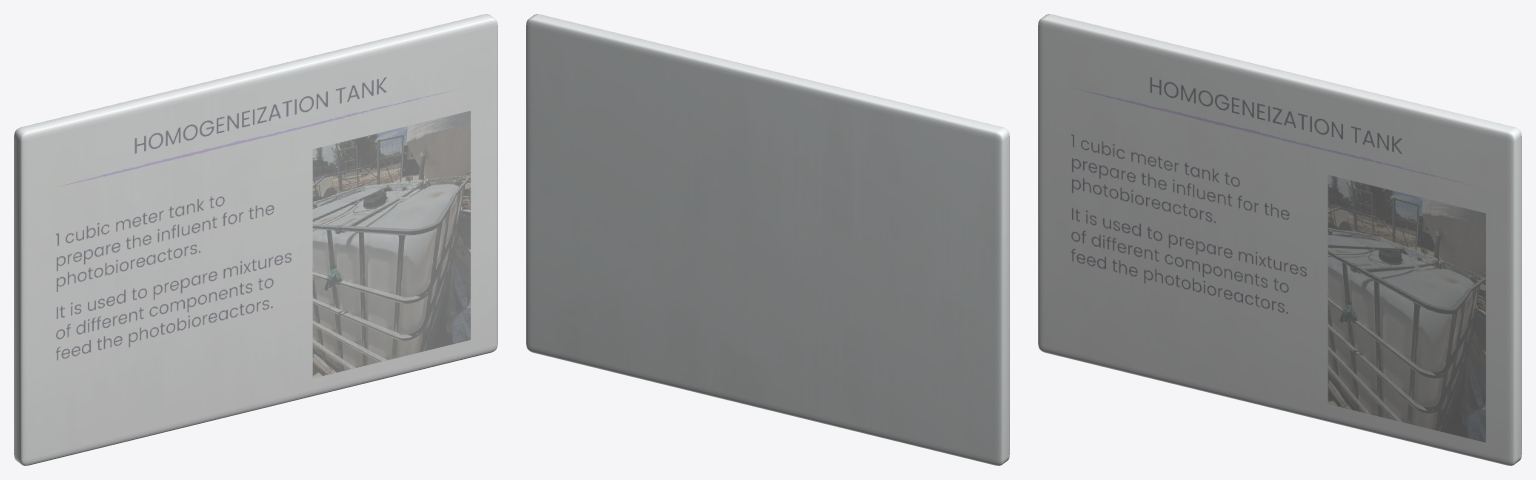
Rendered from Cartel_HT.glb.
3 renders of one model, left to right at view 1: azimuth 30°, elevation 25°; view 2: azimuth 150°, elevation 25°; view 3: azimuth 330°, elevation 25°, orthographic.
Parts seen in each view (by area): view 1: Box011; view 2: Box011; view 3: Box011.
Part boxes in pixels (bbox=[...]): Box011: bbox=[14, 14, 497, 465]; Box011: bbox=[526, 14, 1009, 465]; Box011: bbox=[1038, 14, 1521, 465].
Size of the model in its own units: 1.1 by 0.7335 by 0.0348.
1 material, 1 textured.
